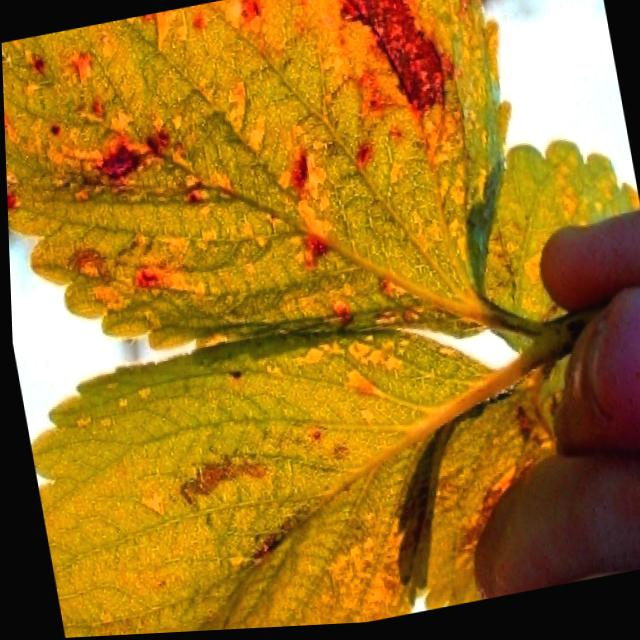Angular Leafspot: (1, 0, 511, 356), (27, 331, 526, 638), (420, 361, 566, 615), (484, 142, 639, 369)
